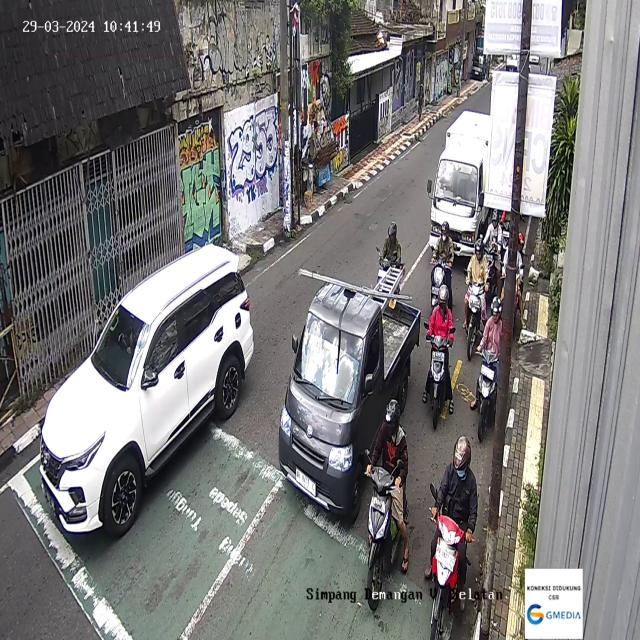car: (38, 243, 255, 539)
motorcycle: (362, 400, 412, 612), (426, 436, 478, 639), (422, 284, 455, 430), (472, 296, 504, 442), (462, 238, 488, 361), (429, 222, 455, 314), (375, 219, 404, 297), (479, 208, 502, 301)
truck: (278, 260, 421, 525), (429, 110, 491, 263)
